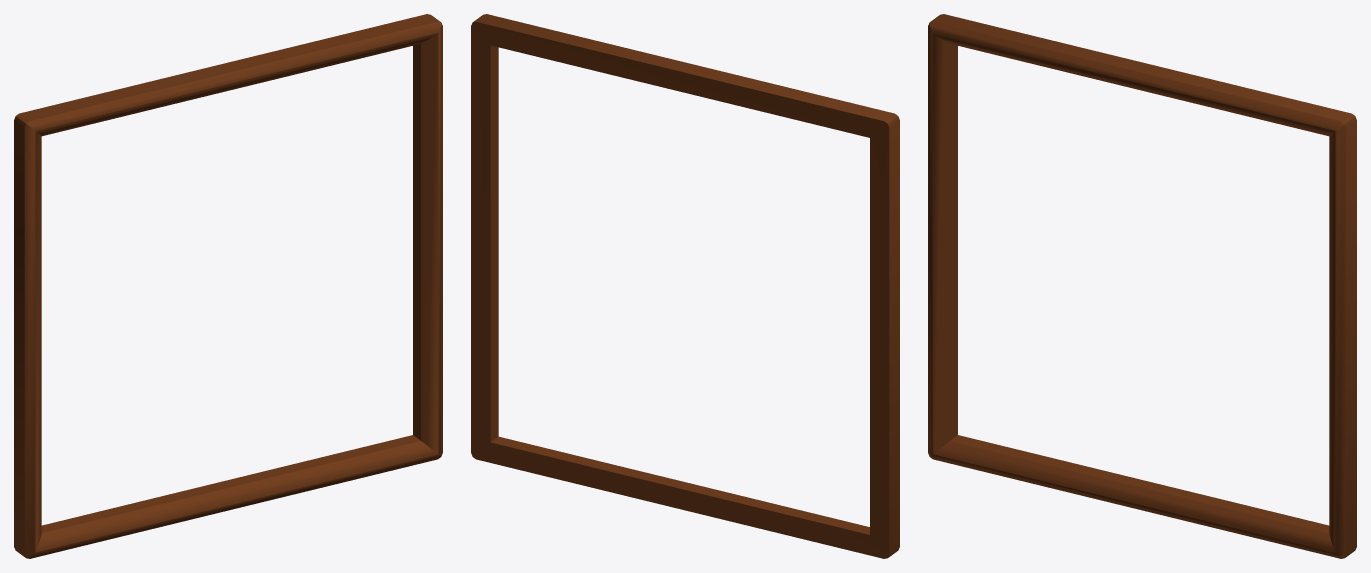
File: PictFrame.fbx
The picture shows the model from 3 angles, left to right: view 1: azimuth 30°, elevation 25°; view 2: azimuth 150°, elevation 25°; view 3: azimuth 330°, elevation 25°; orthographic projection.
Visible parts, largest first — view 1: PictureFrame; view 2: PictureFrame; view 3: PictureFrame.
Part boxes in pixels (<box>): PictureFrame: <box>14,14,442,558</box>; PictureFrame: <box>471,14,899,558</box>; PictureFrame: <box>928,14,1356,558</box>.
Bounding box in the file's own units: 8774 × 8774 × 500.
